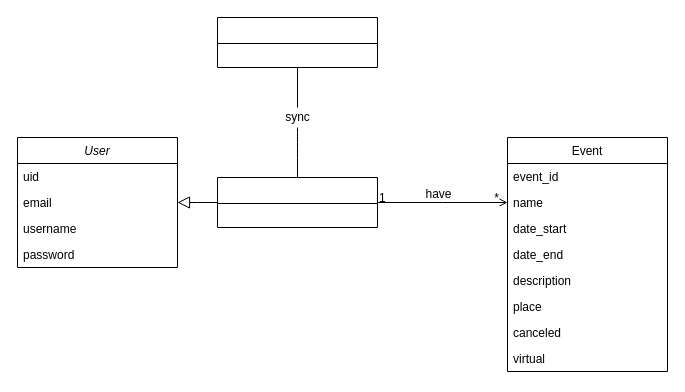
The diagram is 685 pixels wide and 392 high, and some of its shapes have lost their labels. Here are the shapes that lost their labels. From the top down, the centre of each, then its label:
At (297,42): "Reddit".
At (297,202): "Conference Owner".
